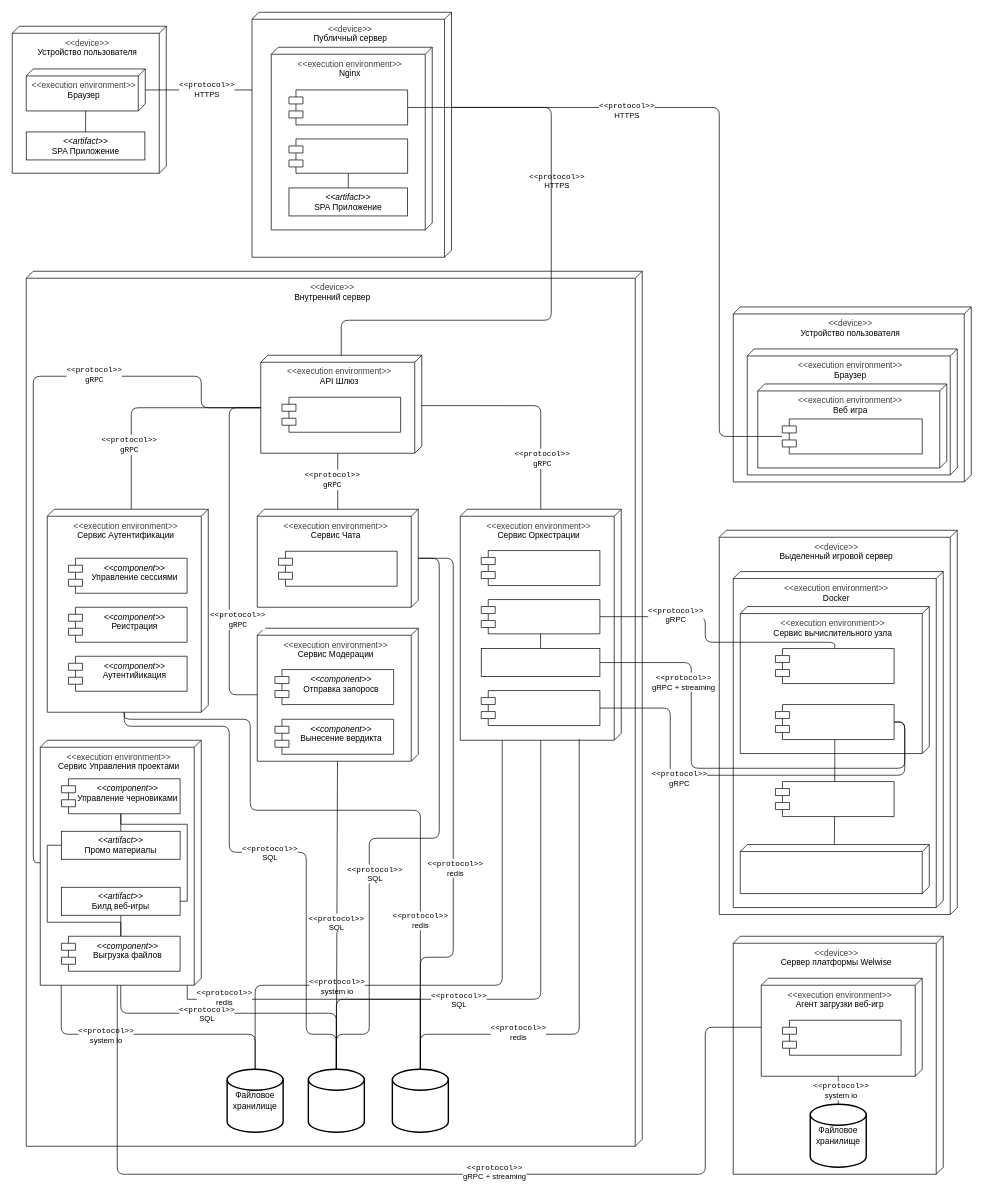
This 984x1194 diagram has some shape labels left out. The centre of each missing label's shape, as x and y in pixels:
"<<artifact>> Образ сервера" belongs at [540,662].
"<<component>> Docker API" belongs at [834,799].
"<<component>> Выдача подключений" belongs at [540,568].
"<<component>> Загрузка файлов" belongs at [841,1037].
"<<component>> Конвертация запросов" belongs at [341,414].
"<<component>> Модуль обнаружения" belongs at [834,666].
"<<component>> Модуль развертывания" belongs at [834,722].
"<<component>> Обработка сборок" belongs at [540,616].
"<<component>> Обратный прокси" belongs at [348,107].
"<<component>> Отправка сообшений" belongs at [337,568].
"<<component>> Плагин обнаружения сервера" belongs at [852,436].
"<<component>> Статический веб-сервер" belongs at [348,155].
"<<component>> Управление инстансами" belongs at [540,708].
"<<execution environment>> Игровой сервер" belongs at [834,869].
"PostgreSQL" belongs at [336,1100].
"Valkey" belongs at [420,1100].
